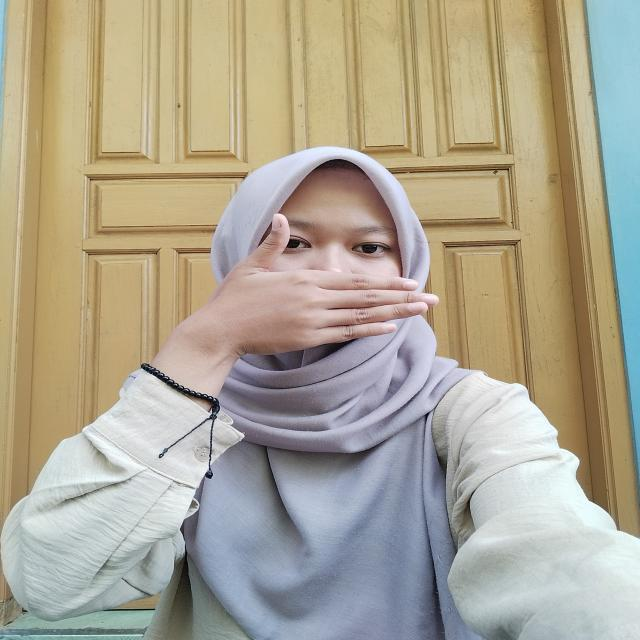buruk: (179, 208, 436, 360)
